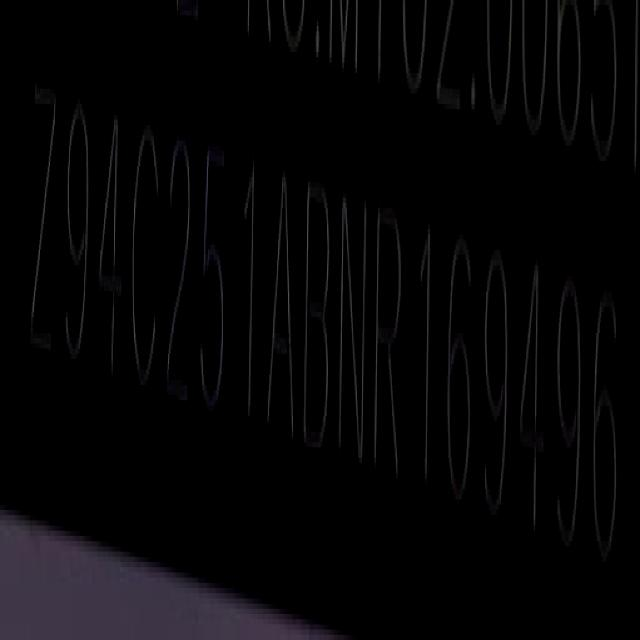1: (239, 156, 257, 434), (419, 212, 436, 495)
2: (167, 125, 195, 406)
4: (520, 254, 548, 543), (99, 101, 124, 382)
5: (202, 135, 228, 420)
6: (446, 222, 476, 512), (594, 282, 622, 571)
9: (553, 268, 584, 562), (482, 241, 510, 528), (63, 91, 91, 373)
A: (269, 165, 297, 445)
B: (306, 174, 334, 456)
C: (133, 121, 163, 398)
N: (342, 188, 367, 468)
R: (376, 194, 406, 483)
Z: (28, 79, 56, 368)
